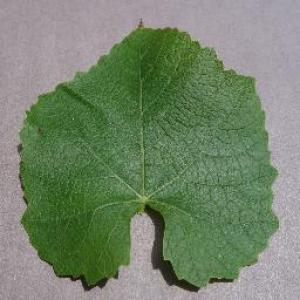Folha: (16, 18, 279, 292)
